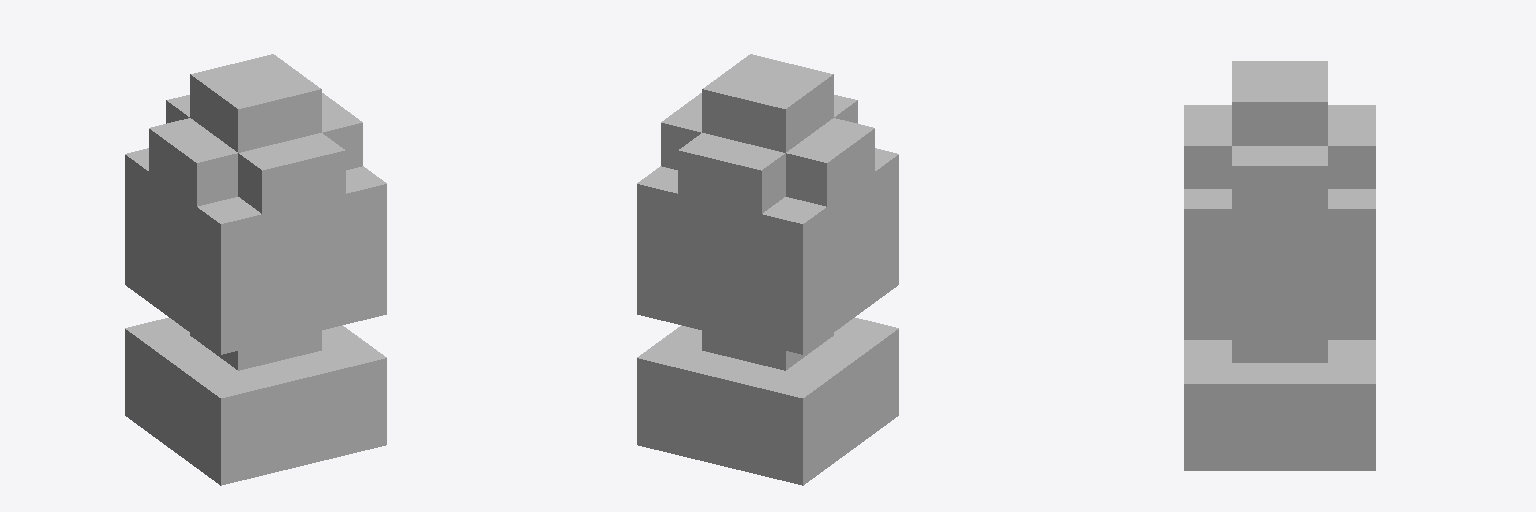
The model's file is Bullet.obj.
3 renders of one model, left to right at view 1: azimuth 30°, elevation 25°; view 2: azimuth 150°, elevation 25°; view 3: azimuth 270°, elevation 25°, orthographic.
Visible parts, largest first — view 1: object 1; view 2: object 1; view 3: object 1.
Boxes of the visible parts, x1,y1,x2,y2 form: object 1: [125, 54, 386, 485]; object 1: [637, 54, 898, 485]; object 1: [1184, 61, 1375, 470].
Bounding box in the file's own units: 0.4 × 0.8 × 0.4.